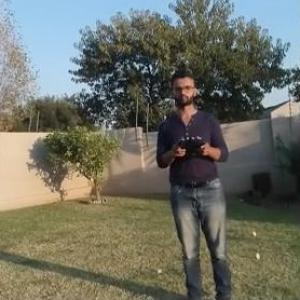follow: (151, 63, 240, 299)
